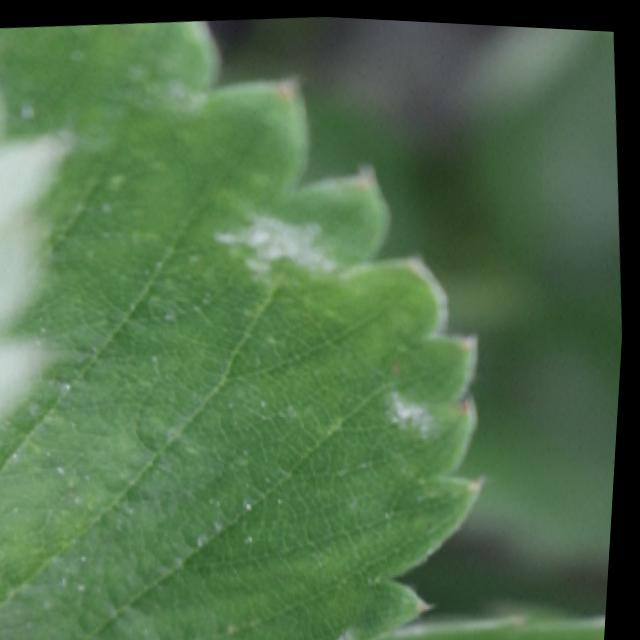Powdery Mildew Leaf: (0, 17, 496, 640)
